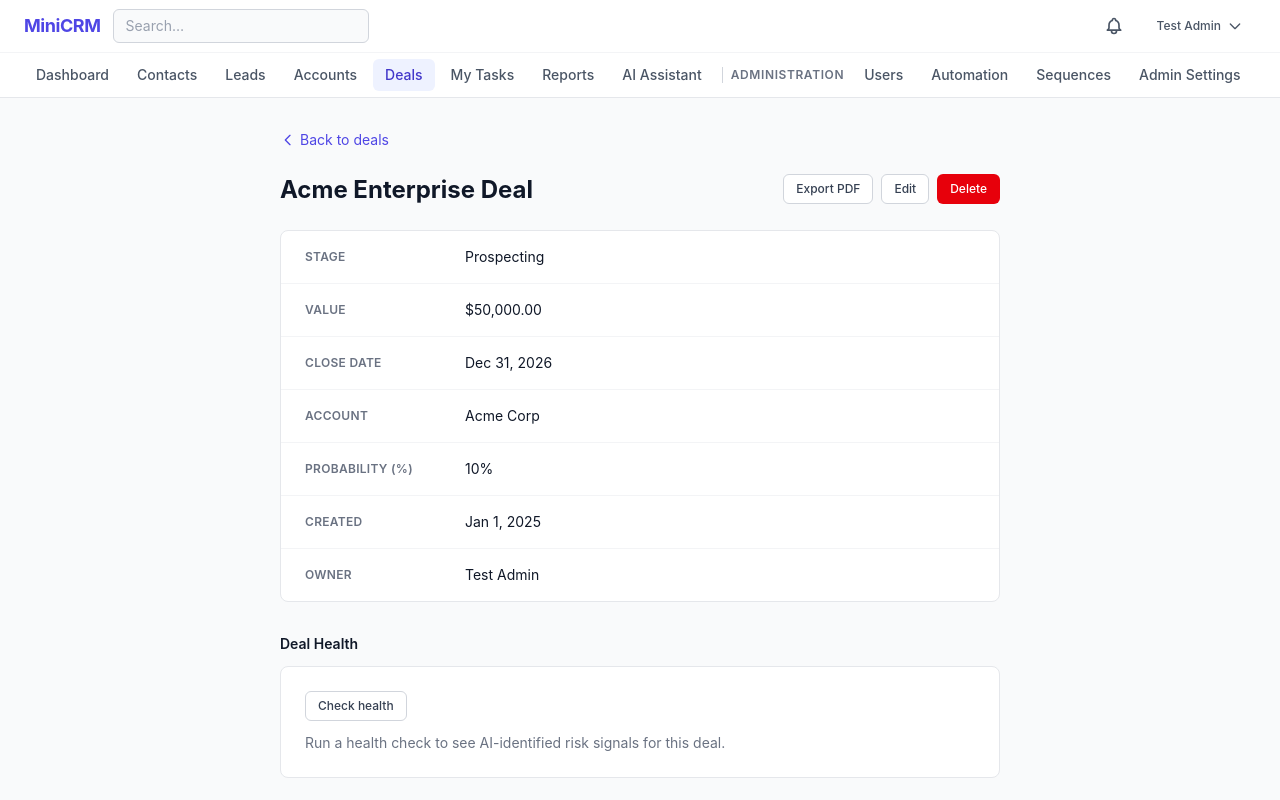
DealDetailPage › hides the edit form when Cancel is clicked
Click the button with test id "edit-deal-button" at (905, 189), box [881,174,929,204]
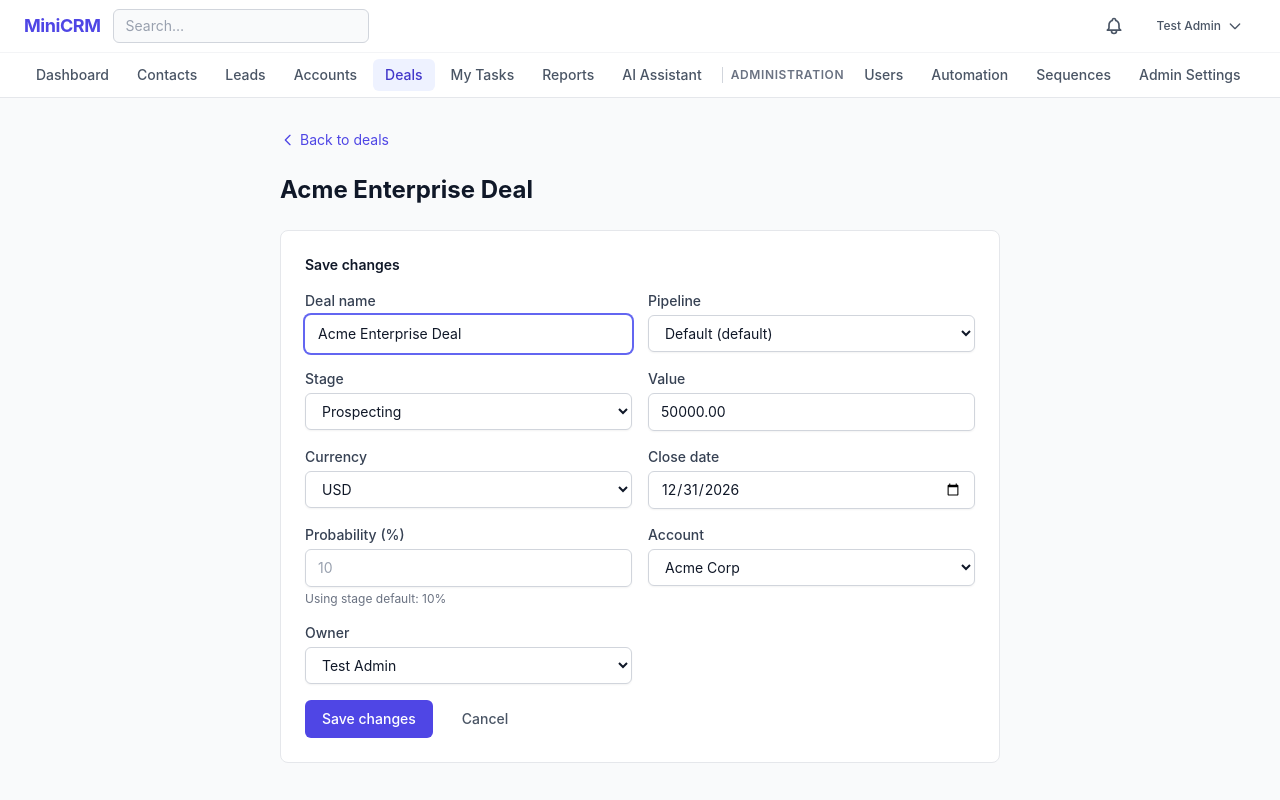
Result: the form with test id "deal-form" is shown at [305,291,975,738]
Click the button with test id "deal-form-cancel" at (485, 719), box [445,700,525,738]
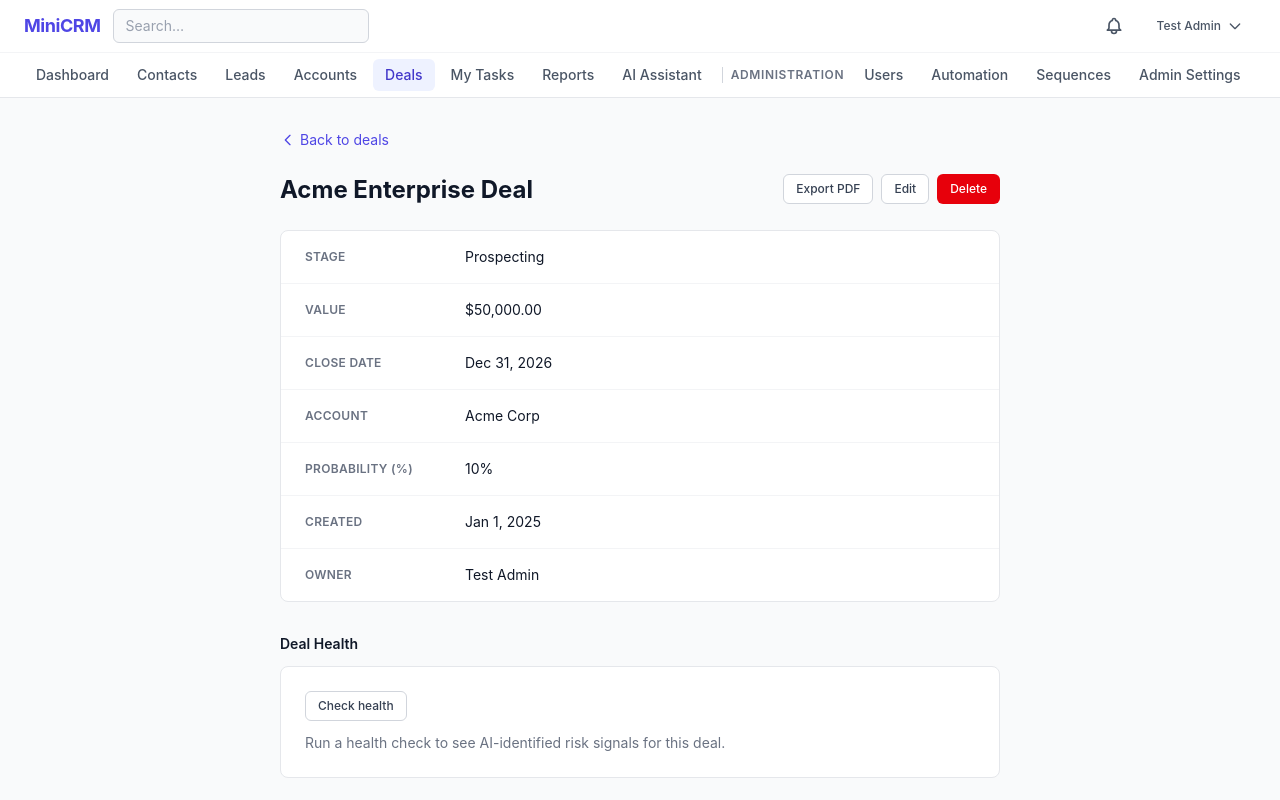
Result: the form with test id "deal-form" is gone
